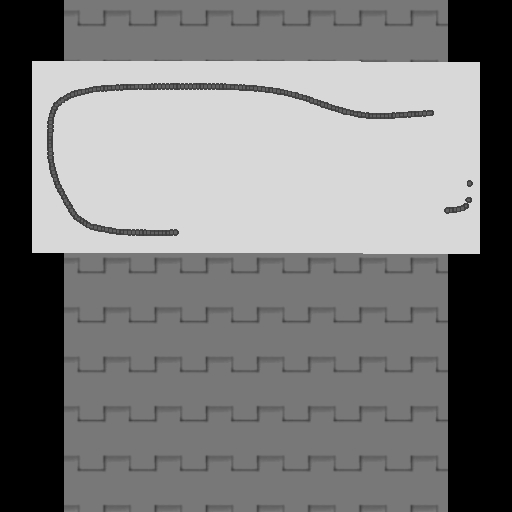Defect: (179, 200, 445, 240)
